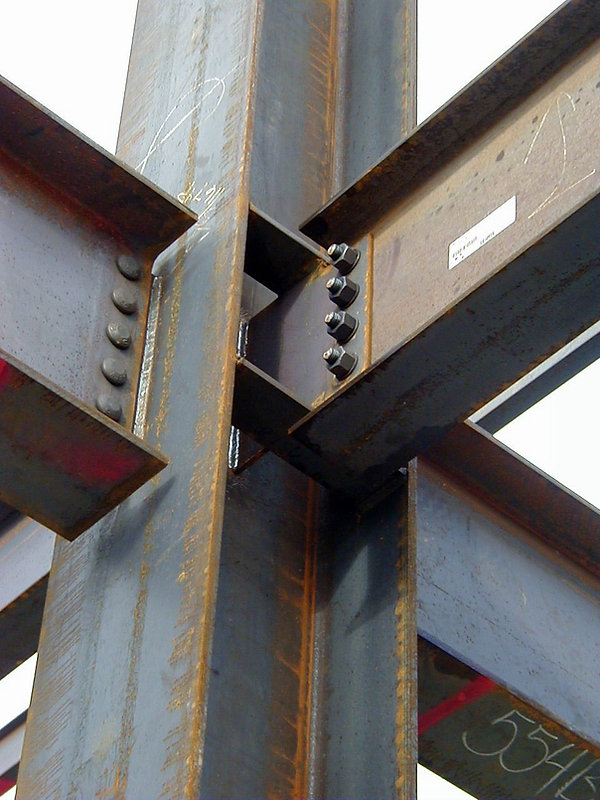bolt_b: (324, 276, 358, 308), (321, 346, 355, 377), (324, 309, 355, 341), (326, 241, 357, 271)
